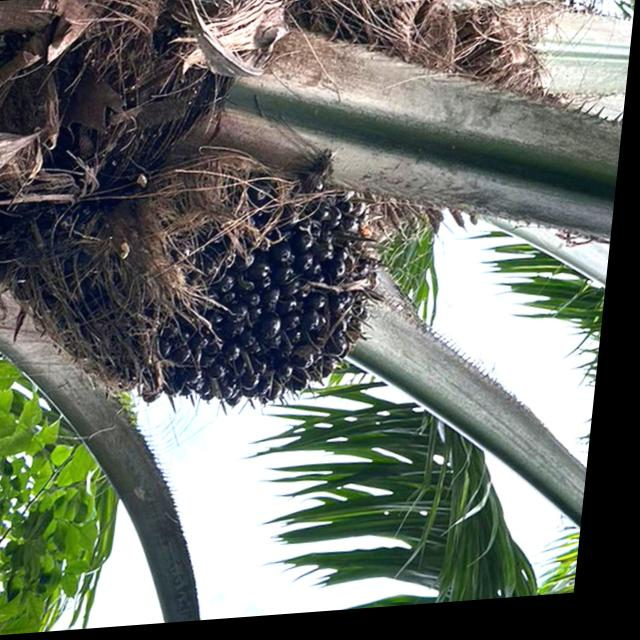almost: (78, 150, 412, 436)
